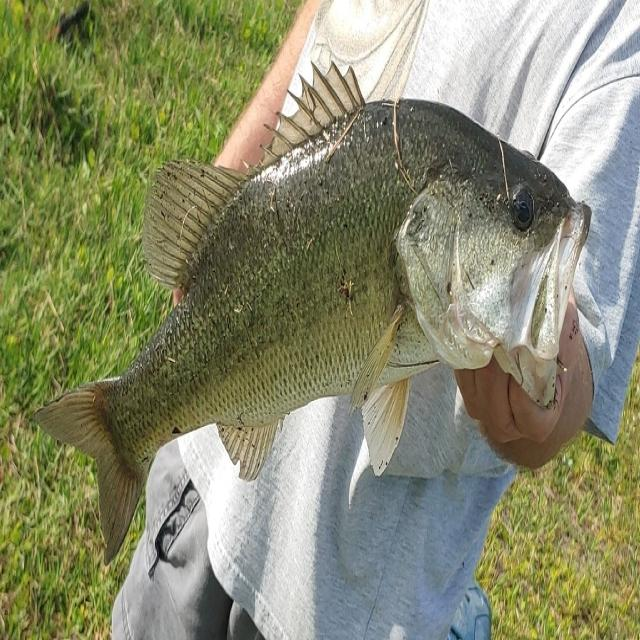Bass - Largemouth: (36, 64, 590, 562)
